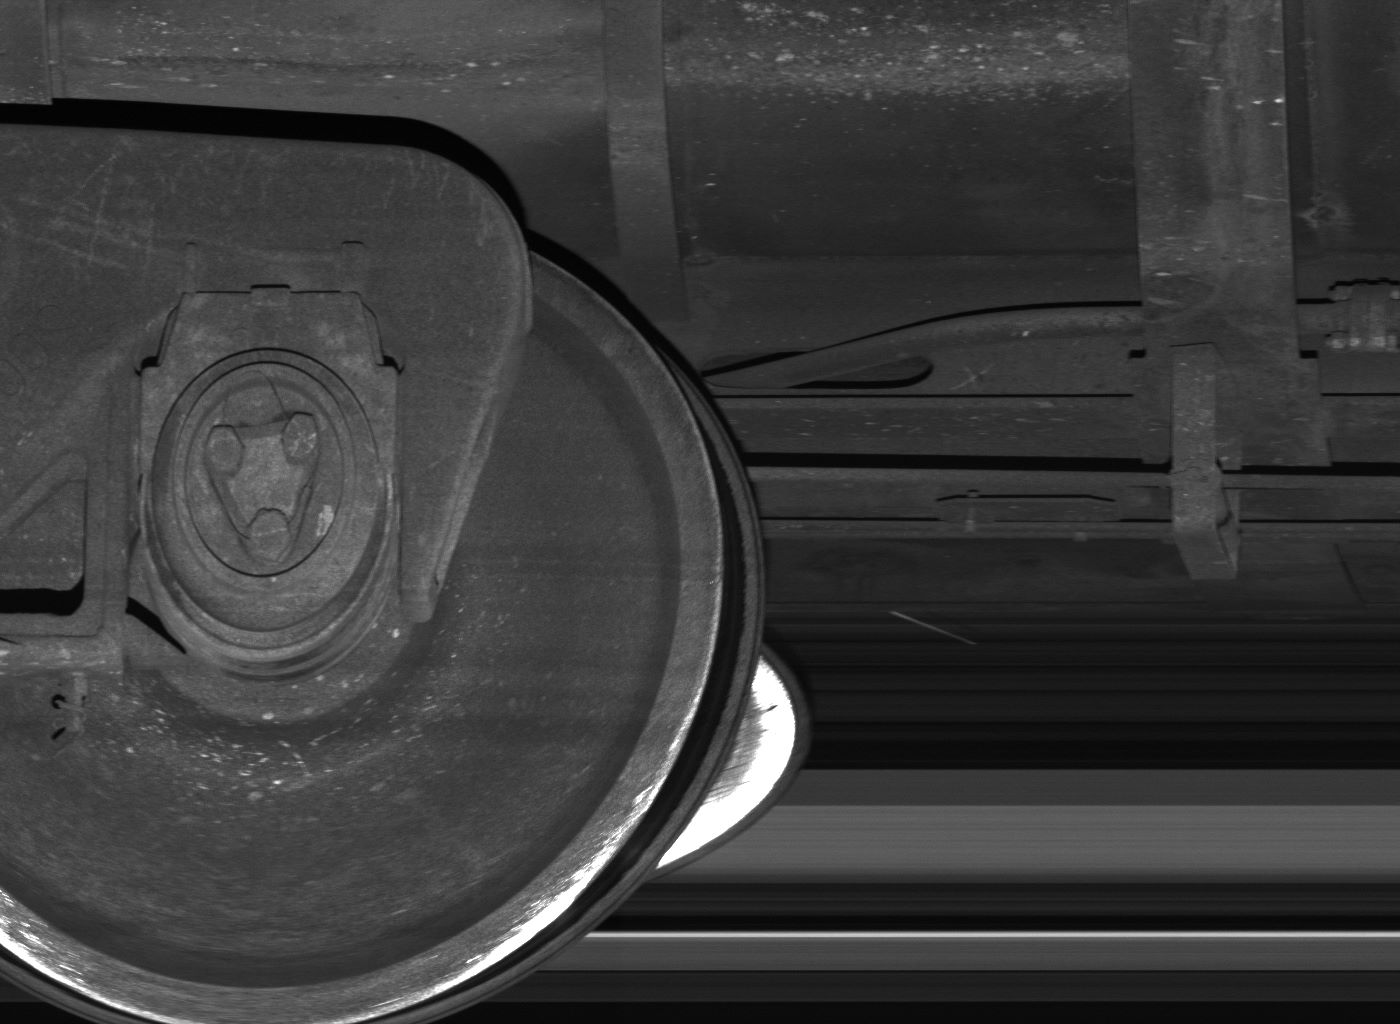normal: (1170, 346, 1243, 588)
